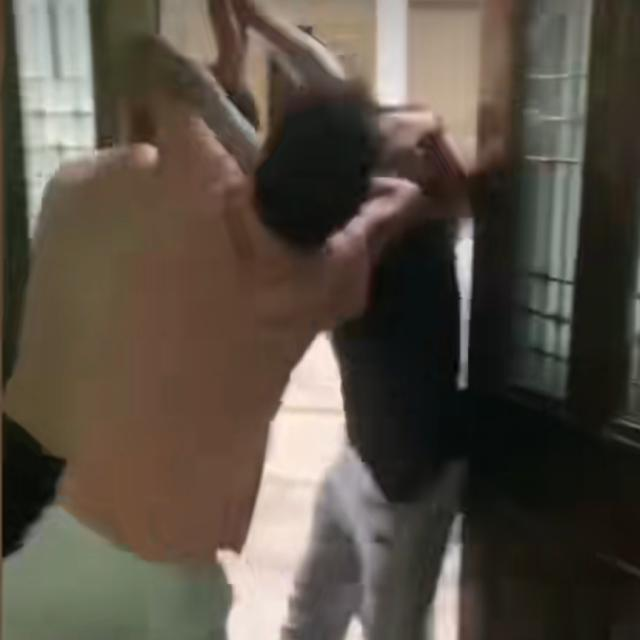fight: (121, 4, 487, 327)
